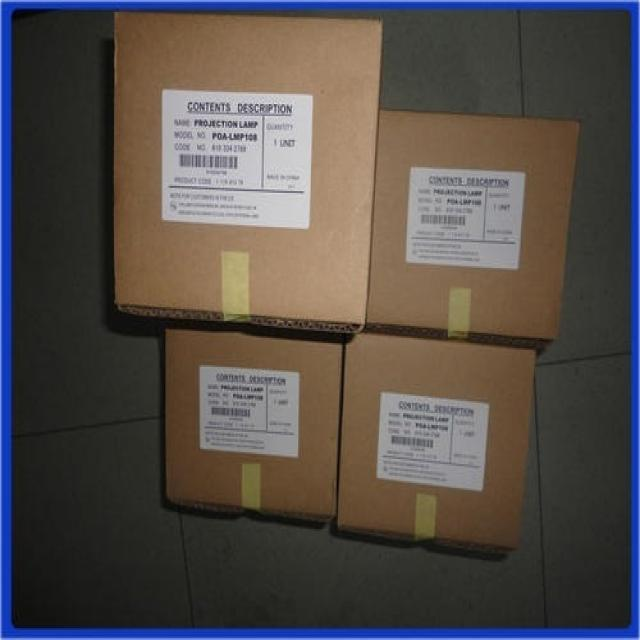box: (114, 12, 384, 333), (366, 109, 582, 353), (337, 331, 536, 548), (165, 328, 342, 524)
